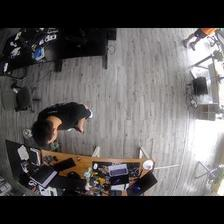normal: (32, 102, 94, 146)
